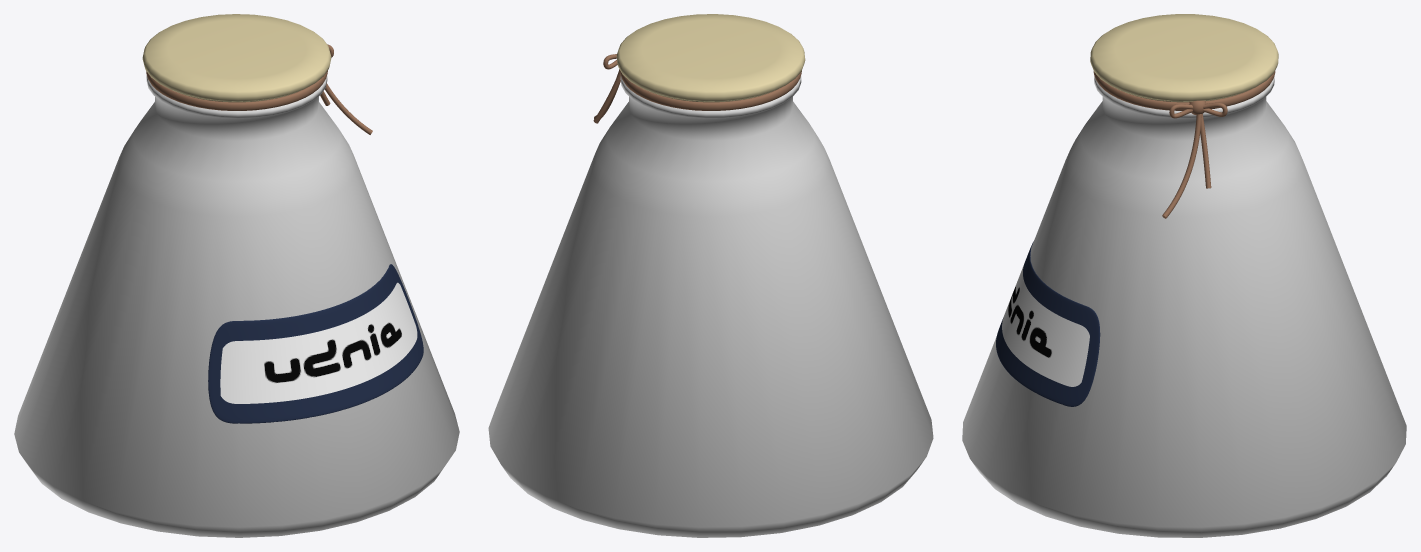
The model's file is water.fbx.
3 renders of one model, left to right at view 1: azimuth 30°, elevation 25°; view 2: azimuth 150°, elevation 25°; view 3: azimuth 270°, elevation 25°, orthographic.
Visible parts, largest first — view 1: water, label.002, Cylinder.003, rope.002; view 2: water, Cylinder.003, rope.002; view 3: water, Cylinder.003, label.002, rope.002.
Part boxes in pixels (x1,y1,x2,y2): water: (14, 75, 459, 537); label.002: (208, 264, 423, 423); Cylinder.003: (142, 14, 331, 102); rope.002: (146, 44, 372, 134); water: (488, 75, 933, 537); Cylinder.003: (616, 14, 805, 102); rope.002: (593, 54, 801, 123); water: (962, 76, 1406, 537); Cylinder.003: (1090, 14, 1278, 102); label.002: (996, 241, 1100, 406); rope.002: (1093, 71, 1275, 218).
Bounding box in the file's own units: 91.81 × 91.86 × 91.81.
